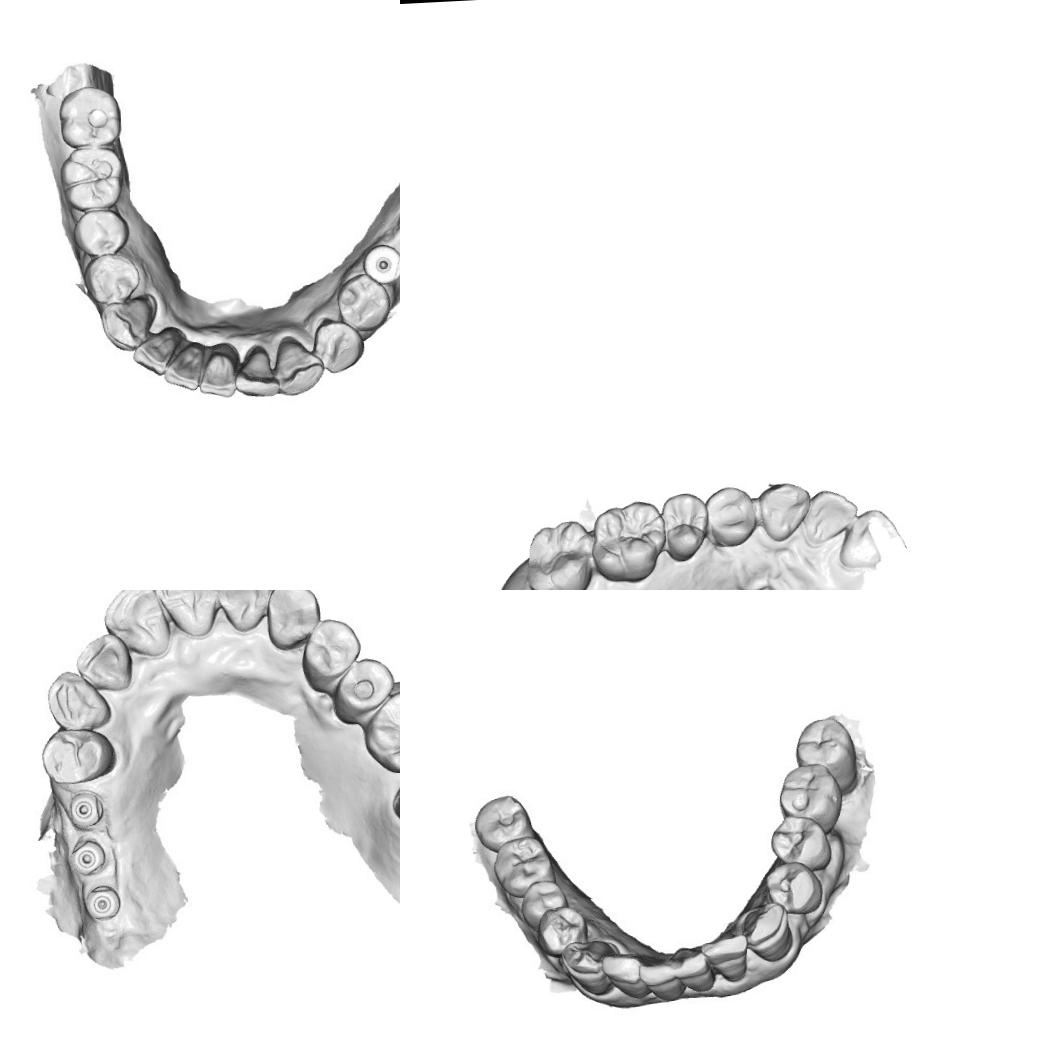canine: (43, 668, 112, 734), (260, 590, 319, 654), (756, 480, 812, 542), (273, 332, 324, 398), (94, 297, 155, 351), (742, 902, 795, 959), (564, 940, 614, 990)
implant: (68, 834, 110, 878), (84, 876, 122, 922), (67, 788, 104, 826), (367, 244, 400, 282)
incisor: (100, 590, 173, 662), (70, 632, 134, 694), (153, 590, 222, 647), (801, 487, 859, 546), (212, 590, 273, 637), (671, 944, 720, 998), (133, 328, 181, 376), (707, 932, 749, 979), (602, 954, 646, 998), (239, 342, 278, 390), (198, 347, 237, 393), (168, 340, 206, 386), (646, 962, 679, 1004)
molar: (586, 498, 670, 586), (520, 517, 596, 590), (775, 760, 844, 830), (59, 142, 126, 208), (794, 715, 855, 784), (54, 88, 118, 148), (470, 792, 532, 850), (360, 688, 400, 774), (490, 836, 552, 889)
premolar: (39, 723, 116, 789), (660, 489, 712, 564), (703, 484, 758, 550), (764, 861, 828, 916), (338, 655, 392, 718), (307, 621, 358, 681), (770, 815, 828, 866), (338, 274, 390, 330), (533, 904, 585, 960), (86, 252, 139, 306), (74, 206, 131, 255), (519, 877, 563, 926), (315, 322, 362, 366)
